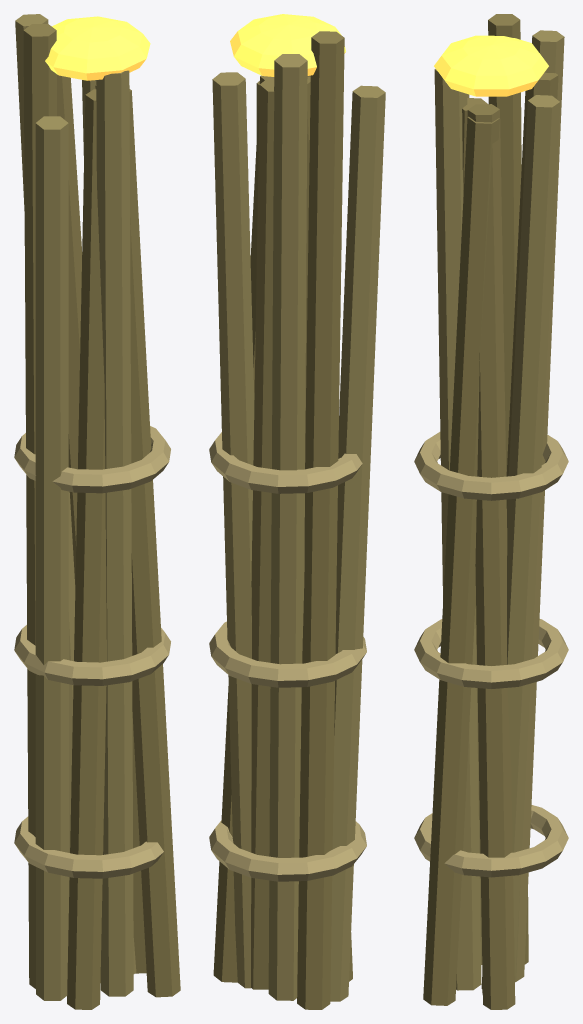
Rendered from SmudgeStick.gltf.
3 views of the same model, side by side, from view 1: azimuth 30°, elevation 25°; view 2: azimuth 150°, elevation 25°; view 3: azimuth 270°, elevation 25° (orthographic). The views are drawn at different scales.
Parts seen in each view (by area): view 1: SmudgeStick_Stalk5, SmudgeStick_Stalk7, SmudgeStick_Stalk6, SmudgeStick_Stalk8, SmudgeStick_Stalk4, SmudgeStick_Ember, SmudgeStick_Stalk2, SmudgeStick_String1, SmudgeStick_String0, SmudgeStick_String2, SmudgeStick_Stalk3, SmudgeStick_Stalk0 (+1 smaller); view 2: SmudgeStick_Stalk4, SmudgeStick_Stalk3, SmudgeStick_Stalk5, SmudgeStick_Stalk1, SmudgeStick_Stalk2, SmudgeStick_Stalk0, SmudgeStick_String0, SmudgeStick_Ember, SmudgeStick_String1, SmudgeStick_String2, SmudgeStick_Stalk6; view 3: SmudgeStick_Stalk8, SmudgeStick_Stalk0, SmudgeStick_Stalk1, SmudgeStick_Stalk7, SmudgeStick_Stalk4, SmudgeStick_Stalk3, SmudgeStick_Ember, SmudgeStick_String1, SmudgeStick_String2, SmudgeStick_String0, SmudgeStick_Stalk2, SmudgeStick_Stalk6 (+1 smaller).
Boxes of the visible parts, left/top/right/bottom form: SmudgeStick_Stalk5: left=35, top=116, right=68, bottom=1000; SmudgeStick_Stalk7: left=96, top=70, right=133, bottom=996; SmudgeStick_Stalk6: left=67, top=89, right=106, bottom=1009; SmudgeStick_Stalk8: left=129, top=89, right=180, bottom=997; SmudgeStick_Stalk4: left=23, top=24, right=56, bottom=988; SmudgeStick_Ember: left=45, top=16, right=150, bottom=80; SmudgeStick_Stalk2: left=57, top=74, right=82, bottom=584; SmudgeStick_String1: left=14, top=625, right=170, bottom=685; SmudgeStick_String0: left=14, top=816, right=163, bottom=878; SmudgeStick_String2: left=14, top=426, right=170, bottom=493; SmudgeStick_Stalk3: left=15, top=14, right=75, bottom=896; SmudgeStick_Stalk0: left=95, top=85, right=146, bottom=973; SmudgeStick_Stalk4: left=297, top=31, right=344, bottom=1009; SmudgeStick_Stalk3: left=268, top=54, right=307, bottom=1000; SmudgeStick_Stalk5: left=330, top=85, right=385, bottom=1001; SmudgeStick_Stalk1: left=212, top=72, right=254, bottom=988; SmudgeStick_Stalk2: left=251, top=78, right=274, bottom=989; SmudgeStick_Stalk0: left=213, top=75, right=274, bottom=982; SmudgeStick_String0: left=209, top=820, right=366, bottom=881; SmudgeStick_Ember: left=230, top=14, right=345, bottom=76; SmudgeStick_String1: left=209, top=621, right=366, bottom=687; SmudgeStick_String2: left=209, top=432, right=362, bottom=493; SmudgeStick_Stalk6: left=305, top=76, right=352, bottom=981; SmudgeStick_Stalk8: left=423, top=116, right=499, bottom=1005; SmudgeStick_Stalk0: left=467, top=104, right=515, bottom=1009; SmudgeStick_Stalk1: left=482, top=95, right=560, bottom=992; SmudgeStick_Stalk7: left=434, top=69, right=481, bottom=990; SmudgeStick_Stalk4: left=488, top=14, right=528, bottom=964; SmudgeStick_Stalk3: left=515, top=30, right=564, bottom=981; SmudgeStick_Ember: left=434, top=35, right=548, bottom=96; SmudgeStick_String1: left=414, top=619, right=568, bottom=688; SmudgeStick_String2: left=414, top=432, right=568, bottom=500; SmudgeStick_String0: left=414, top=805, right=568, bottom=877; SmudgeStick_Stalk2: left=481, top=72, right=558, bottom=988; SmudgeStick_Stalk6: left=462, top=98, right=487, bottom=660.
Bounding box in the file's own units: 0.1384 × 0.8966 × 0.134.
